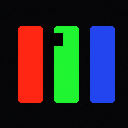1 square: (50, 33, 62, 45)
